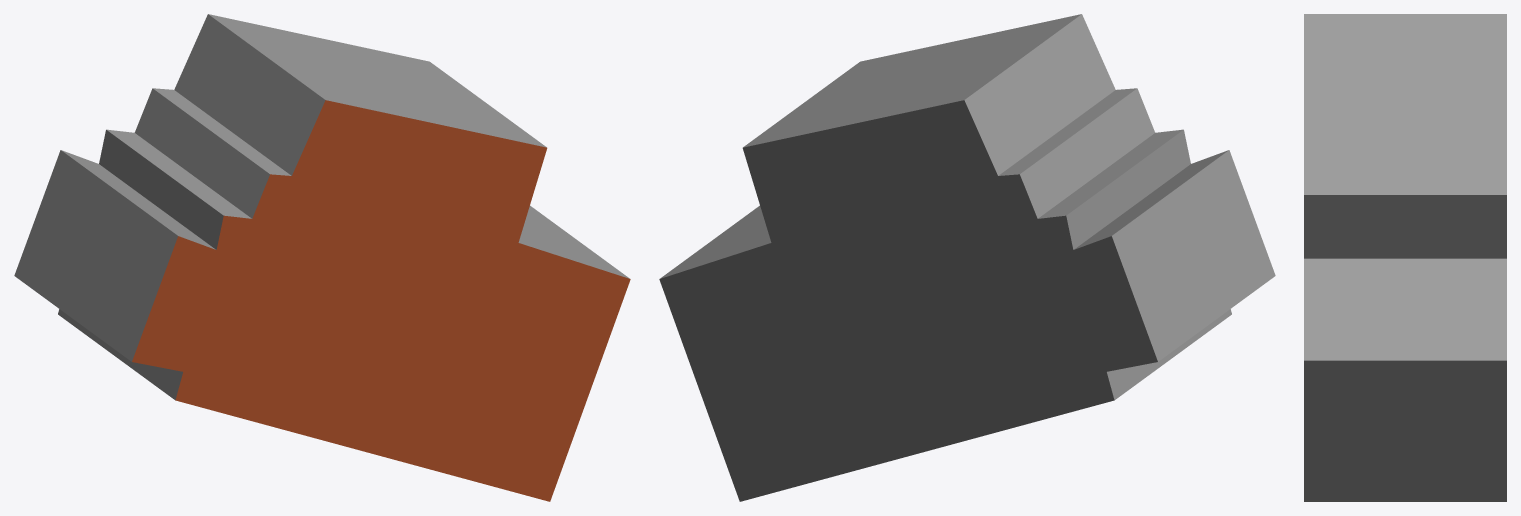
Rendered from construction_3166_assumed_A_Casa_h6m.obj.
3 renders of one model, left to right at view 1: azimuth 30°, elevation 25°; view 2: azimuth 150°, elevation 25°; view 3: azimuth 270°, elevation 25°, orthographic. The views are drawn at different scales.
Visible parts, largest first — view 1: construction_3166_assumed_A_Casa; view 2: construction_3166_assumed_A_Casa; view 3: construction_3166_assumed_A_Casa.
Part boxes in pixels (x1,y1,x2,y2): construction_3166_assumed_A_Casa: (14, 14, 630, 501); construction_3166_assumed_A_Casa: (659, 14, 1275, 501); construction_3166_assumed_A_Casa: (1304, 14, 1506, 501).
Size of the model in its own units: 14.69 by 12.85 by 6.
